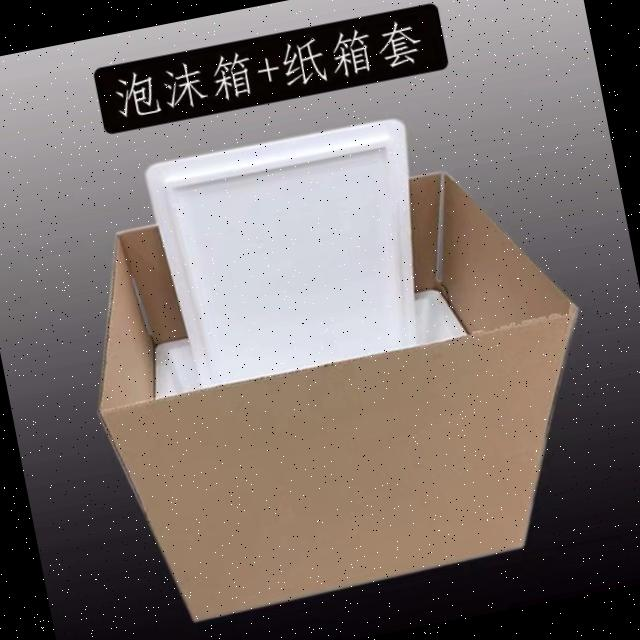styrofoam: (51, 89, 624, 632)
